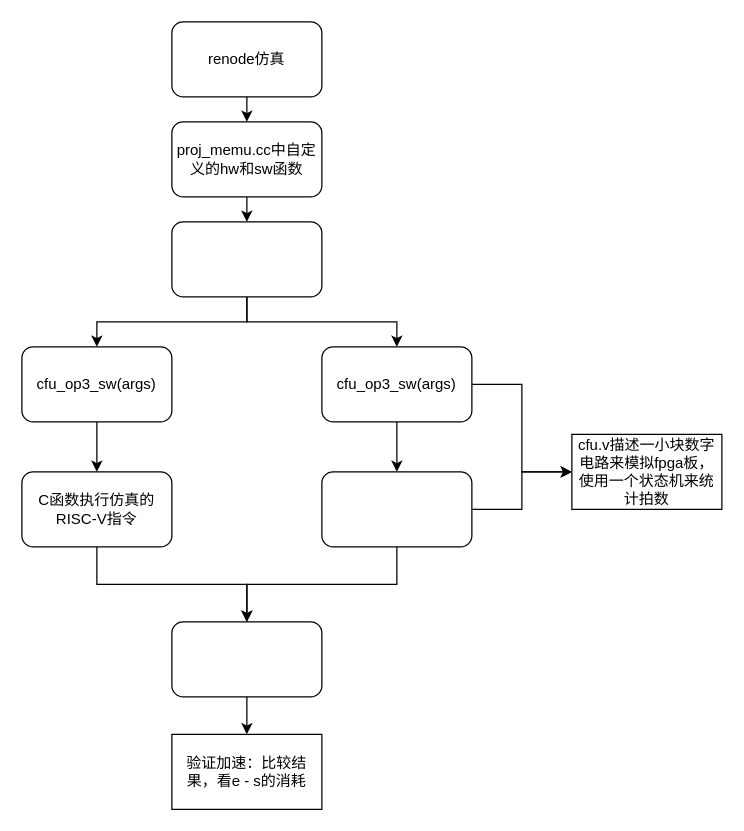
Image size: 744x831. Some labels were removed from this diagram. The centre of each missing label's shape, as x and y in pixels:
"cfu.v仿真两个寄存器和一个加数器，按时钟进行计算" belongs at point (396, 509).
"e = perf_get_mcycle()" belongs at point (246, 659).
"s = perf_get_mcycle()" belongs at point (246, 259).
